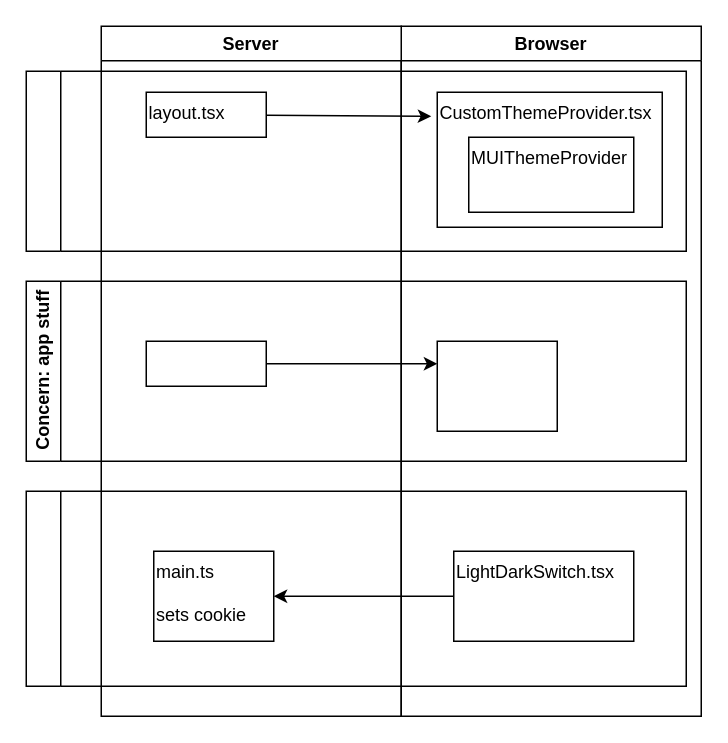
The diagram is 728 pixels wide and 743 high, and some of its shapes have lost their labels. The shapes that lost their labels are listed below. From the top down, each one's centre as x and y in pixels, then its label:
the point at 355,160: Concern: loading
the point at 205,363: page.tsx
the point at 496,385: Dashboard.tsx
the point at 355,588: Concern: switching
